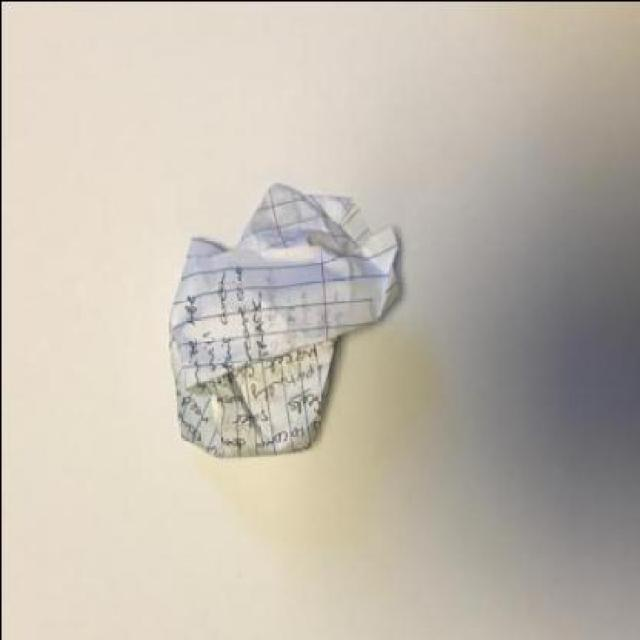PAPER: (164, 182, 398, 456)
